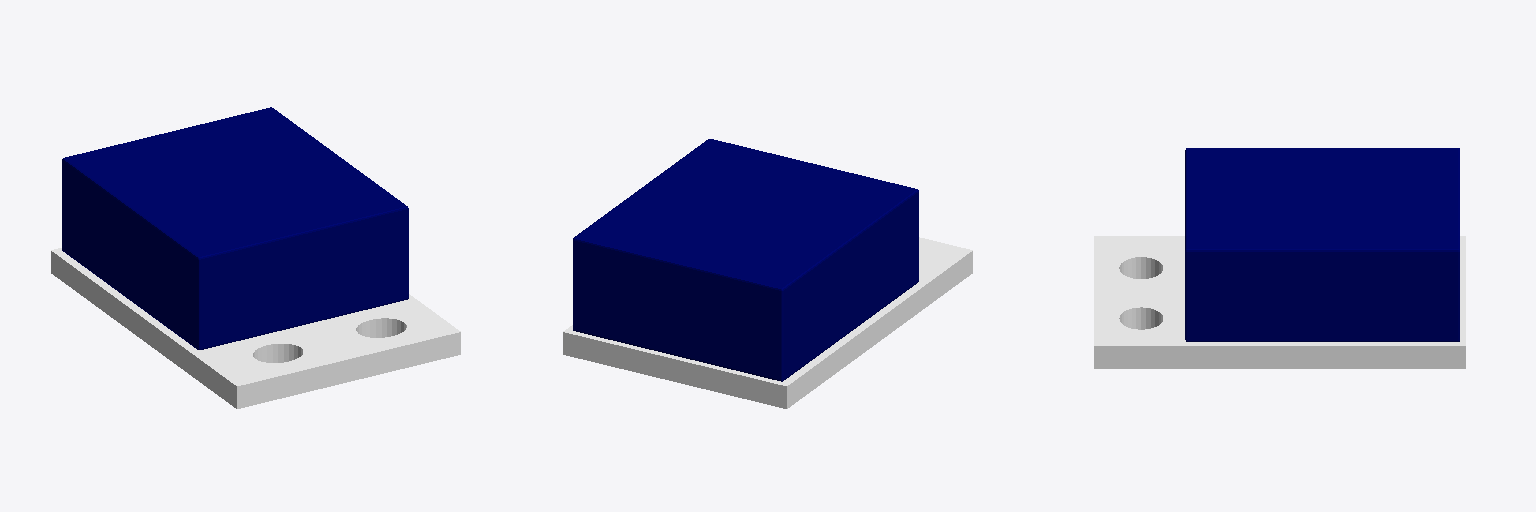
Rendered from inclinometer.obj.
3 views of the same model, side by side, from view 1: azimuth 30°, elevation 25°; view 2: azimuth 150°, elevation 25°; view 3: azimuth 270°, elevation 25° (orthographic).
Parts seen in each view (by area): view 1: qingxieyi; view 2: qingxieyi; view 3: qingxieyi.
Part boxes in pixels (x1,y1,x2,y2): qingxieyi: (51, 107, 460, 408); qingxieyi: (563, 139, 972, 408); qingxieyi: (1094, 148, 1465, 368).
Size of the model in its own units: 21.98 by 10.85 by 31.62.